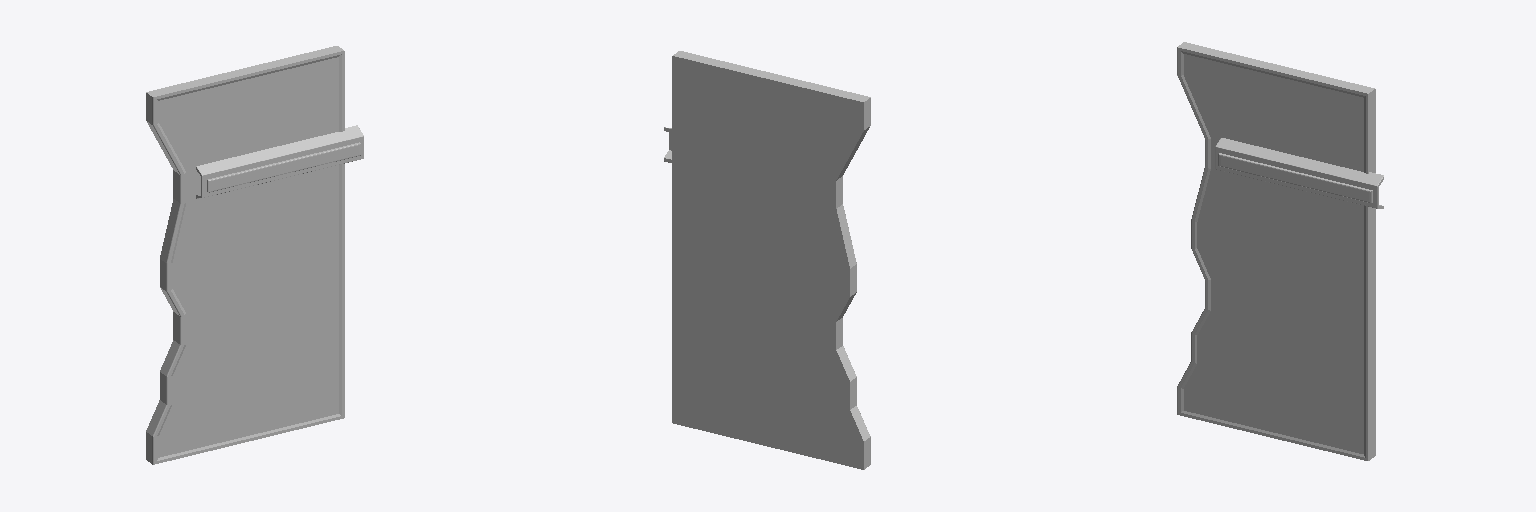
Rendered from RightDoor.obj.
The picture shows the model from 3 angles: view 1: azimuth 30°, elevation 25°; view 2: azimuth 150°, elevation 25°; view 3: azimuth 330°, elevation 25°; orthographic projection.
Parts seen in each view (by area): view 1: Cube.001_Cube.004; view 2: Cube.001_Cube.004; view 3: Cube.001_Cube.004.
Boxes of the visible parts, x1=… form: Cube.001_Cube.004: x1=146, y1=46, x2=363, y2=464; Cube.001_Cube.004: x1=664, y1=51, x2=870, y2=469; Cube.001_Cube.004: x1=1177, y1=42, x2=1383, y2=460.
Size of the model in its own units: 4.53 by 7.72 by 0.5381.